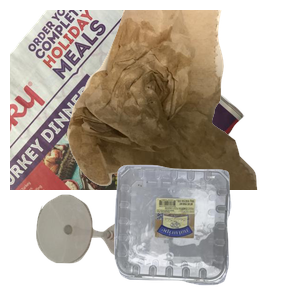glass: (34, 192, 187, 300)
paper: (10, 10, 247, 190)
plastic: (112, 162, 300, 300)
trash: (65, 10, 300, 190)
